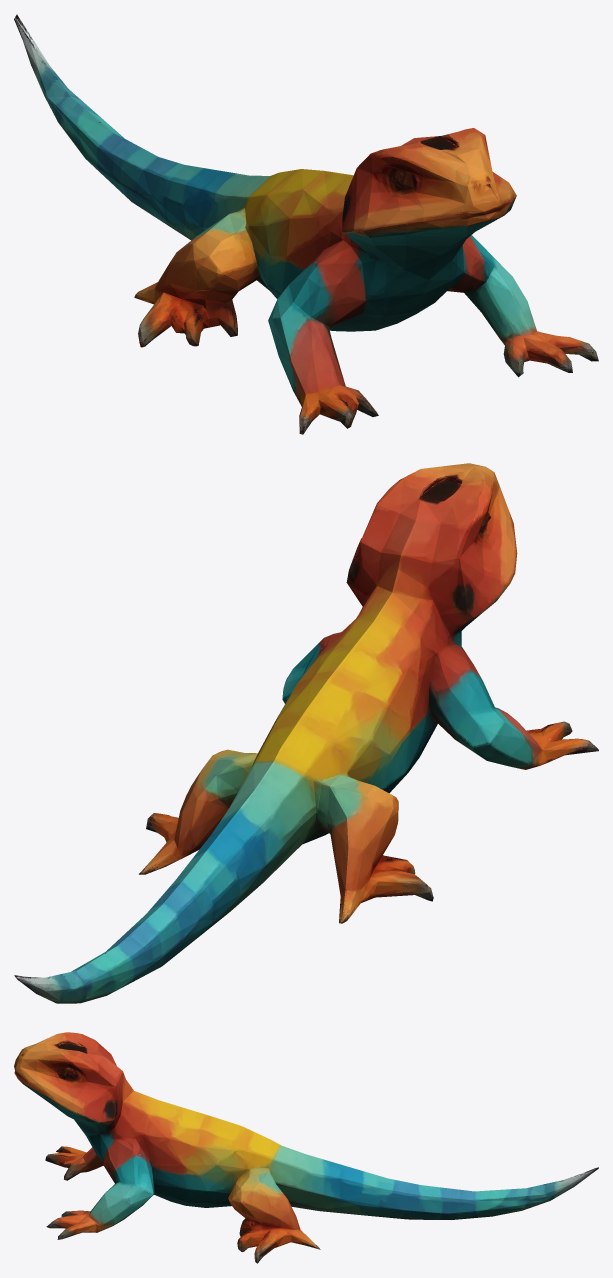
The model's file is lizard.glb.
3 views of the same model, one above another, from view 1: azimuth 30°, elevation 25°; view 2: azimuth 150°, elevation 25°; view 3: azimuth 270°, elevation 25° (orthographic). The views are drawn at different scales.
Parts seen in each view (by area): view 1: world; view 2: world; view 3: world.
Part boxes in pixels (<box>): world: <box>14,14,598,434</box>; world: <box>14,463,598,1003</box>; world: <box>14,1032,598,1263</box>.
Bounding box in the file's own units: 0.3676 × 0.3307 × 0.9993.
1 material, 1 textured.
